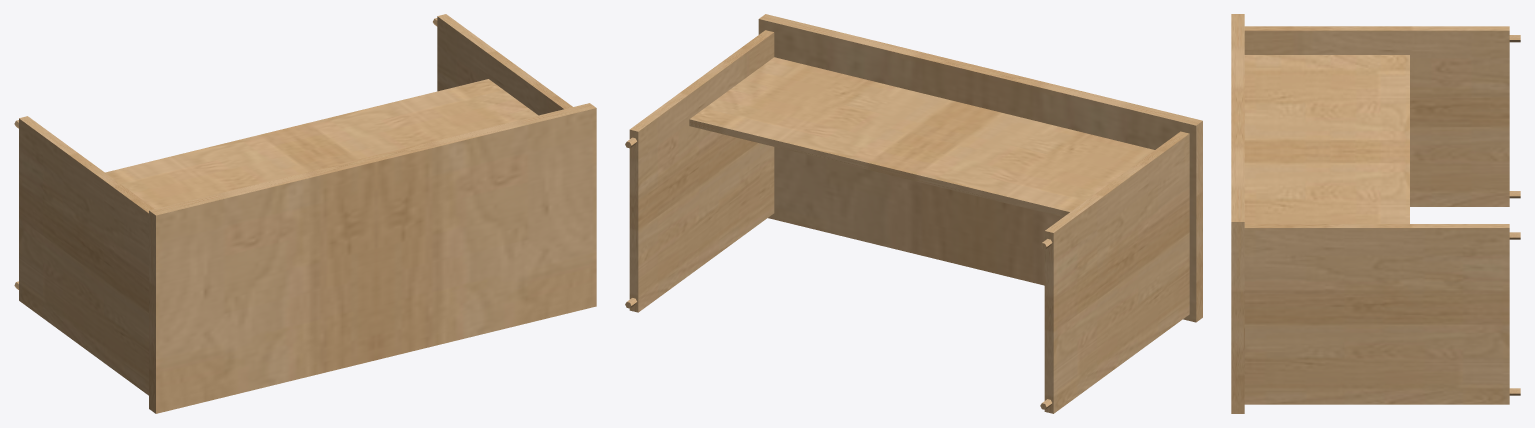
The model's file is office.obj.
3 views of the same model, side by side, from view 1: azimuth 30°, elevation 25°; view 2: azimuth 150°, elevation 25°; view 3: azimuth 270°, elevation 25° (orthographic). The views are drawn at different scales.
Visible parts, largest first — view 1: desk; view 2: desk; view 3: desk.
Boxes of the visible parts, <box> form: desk: <box>14,14,596,413</box>; desk: <box>625,14,1202,413</box>; desk: <box>1231,14,1520,413</box>.
Size of the model in its own units: 1500 by 645 by 881.
